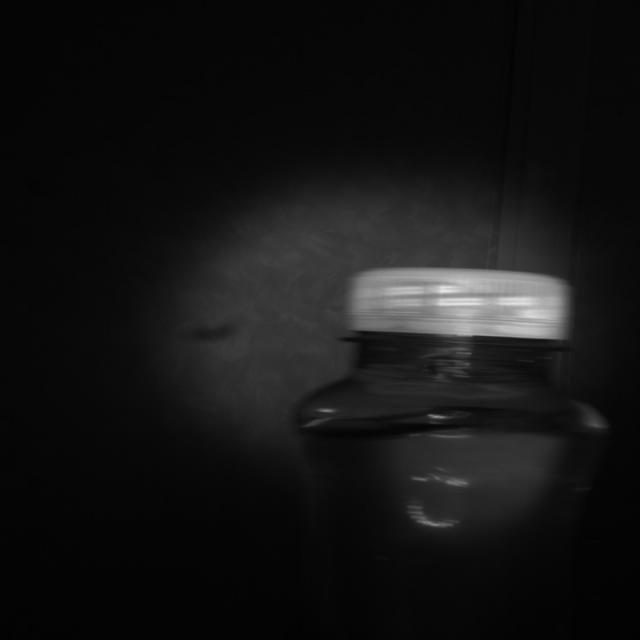Good: (343, 262, 576, 347)
